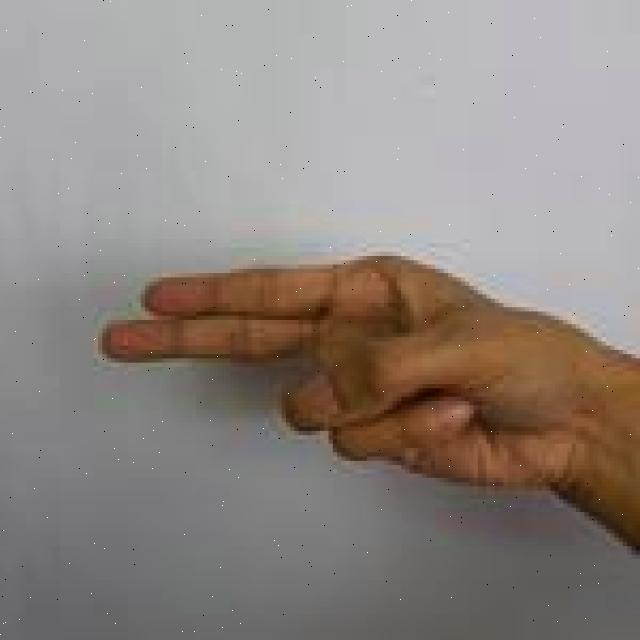H: (91, 248, 640, 563)
